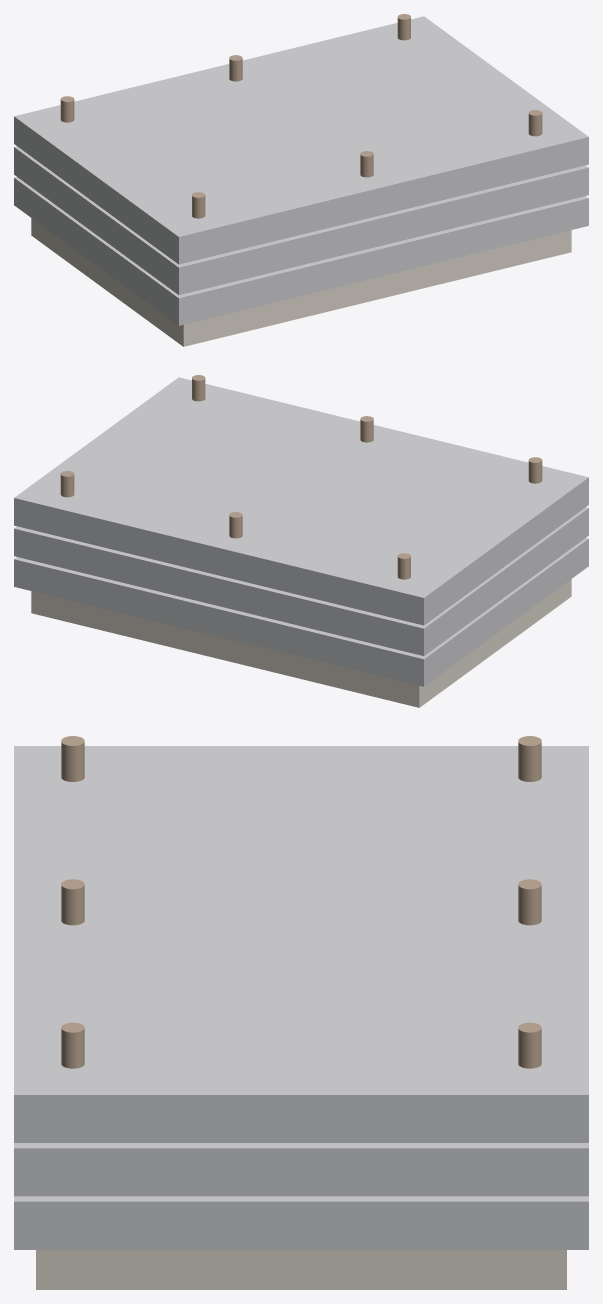
File: MOD_FOUNDATION_RAISED_COASTAL_001_LOD_GAMEPLAY.glb
The picture shows the model from 3 angles, top to bottom: view 1: azimuth 30°, elevation 25°; view 2: azimuth 150°, elevation 25°; view 3: azimuth 270°, elevation 25°; orthographic projection. The views are drawn at different scales.
Parts seen in each view (by area): view 1: MOD_FOUNDATION_RAISED_COASTAL_001_COASTAL_STILT_FOUNDATION_G, MOD_FOUNDATION_RAISED_COASTAL_001_LOW_RAISED_COASTAL_GAMEPLA (×2), MOD_FOUNDATION_RAISED_COASTAL_001_MEDIUM_RAISED_COASTAL_GAME; view 2: MOD_FOUNDATION_RAISED_COASTAL_001_COASTAL_STILT_FOUNDATION_G, MOD_FOUNDATION_RAISED_COASTAL_001_LOW_RAISED_COASTAL_GAMEPLA (×2), MOD_FOUNDATION_RAISED_COASTAL_001_MEDIUM_RAISED_COASTAL_GAME; view 3: MOD_FOUNDATION_RAISED_COASTAL_001_COASTAL_STILT_FOUNDATION_G (×3), MOD_FOUNDATION_RAISED_COASTAL_001_LOW_RAISED_COASTAL_GAMEPLA (×2), MOD_FOUNDATION_RAISED_COASTAL_001_MEDIUM_RAISED_COASTAL_GAME, MOD_FOUNDATION_RAISED_COASTAL_001_COASTAL_STILT_FOUNDATION_. (×4).
Part boxes in pixels (box(x1,y1,x2,y2)): MOD_FOUNDATION_RAISED_COASTAL_001_COASTAL_STILT_FOUNDATION_G: box(14, 16, 588, 264); MOD_FOUNDATION_RAISED_COASTAL_001_LOW_RAISED_COASTAL_GAMEPLA (×2): box(14, 177, 588, 346); MOD_FOUNDATION_RAISED_COASTAL_001_MEDIUM_RAISED_COASTAL_GAME: box(14, 146, 588, 294); MOD_FOUNDATION_RAISED_COASTAL_001_COASTAL_STILT_FOUNDATION_G: box(14, 377, 588, 625); MOD_FOUNDATION_RAISED_COASTAL_001_LOW_RAISED_COASTAL_GAMEPLA (×2): box(14, 538, 588, 707); MOD_FOUNDATION_RAISED_COASTAL_001_MEDIUM_RAISED_COASTAL_GAME: box(14, 507, 588, 655); MOD_FOUNDATION_RAISED_COASTAL_001_COASTAL_STILT_FOUNDATION_G (×3): box(14, 736, 588, 1142); MOD_FOUNDATION_RAISED_COASTAL_001_LOW_RAISED_COASTAL_GAMEPLA (×2): box(14, 1196, 588, 1289); MOD_FOUNDATION_RAISED_COASTAL_001_MEDIUM_RAISED_COASTAL_GAME: box(14, 1143, 588, 1196); MOD_FOUNDATION_RAISED_COASTAL_001_COASTAL_STILT_FOUNDATION_. (×4): box(61, 879, 541, 1068).
Bounding box in the file's own units: 5.6 × 1.8 × 3.9.
